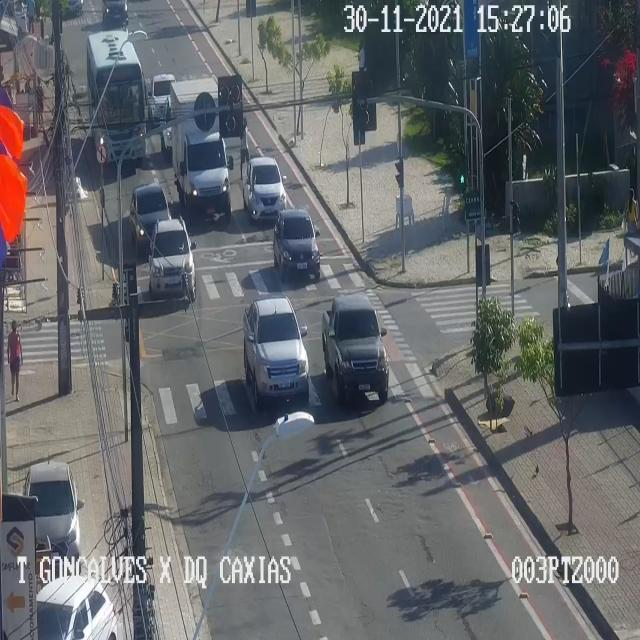Bus: (86, 27, 148, 165)
Car: (242, 296, 310, 411), (322, 291, 388, 405), (23, 460, 83, 562), (36, 573, 116, 639), (148, 217, 196, 299), (273, 208, 321, 284), (243, 156, 287, 222), (130, 183, 170, 251), (148, 72, 176, 124), (103, 0, 133, 29), (54, 0, 91, 21)
Truck: (171, 77, 233, 223)
